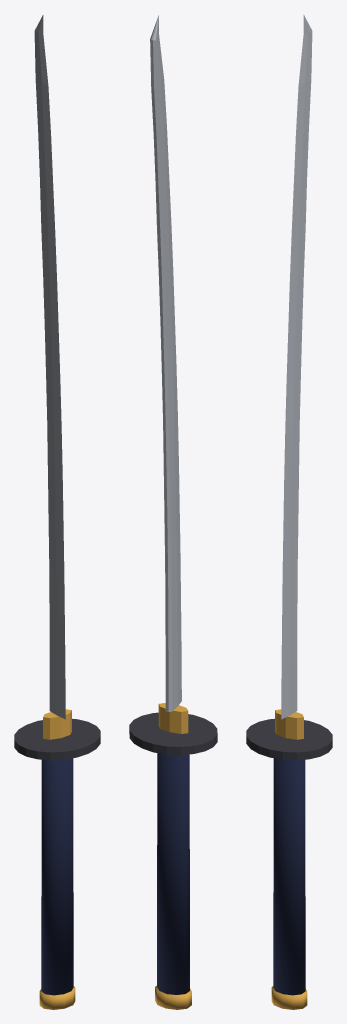
The model's file is katana.glb.
3 views of the same model, side by side, from view 1: azimuth 30°, elevation 25°; view 2: azimuth 150°, elevation 25°; view 3: azimuth 330°, elevation 25° (orthographic). The views are drawn at different scales.
Parts seen in each view (by area): view 1: katana; view 2: katana; view 3: katana.
Boxes of the visible parts, bbox=[...] form: katana: bbox=[14, 15, 100, 1009]; katana: bbox=[129, 15, 217, 1009]; katana: bbox=[246, 15, 332, 1009].
Bounding box in the file's own units: 0.0828 × 0.9938 × 0.0746.
